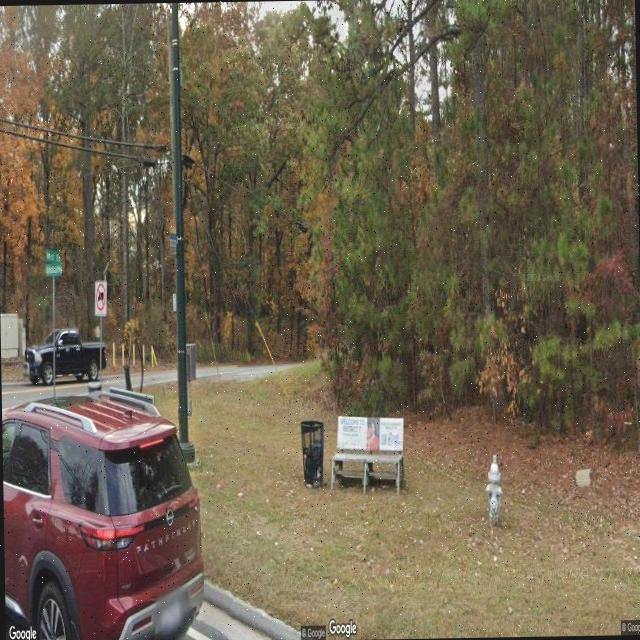seating: (330, 414, 406, 496)
trash_can: (300, 419, 326, 490)
